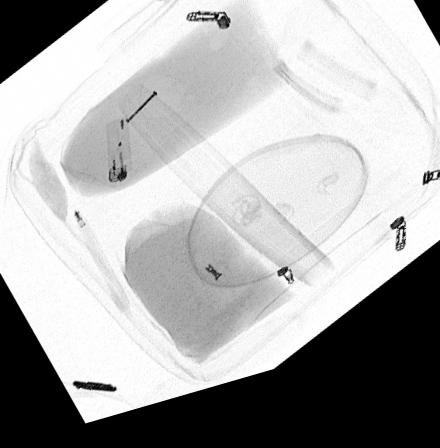Lighter: (104, 125, 132, 189)
